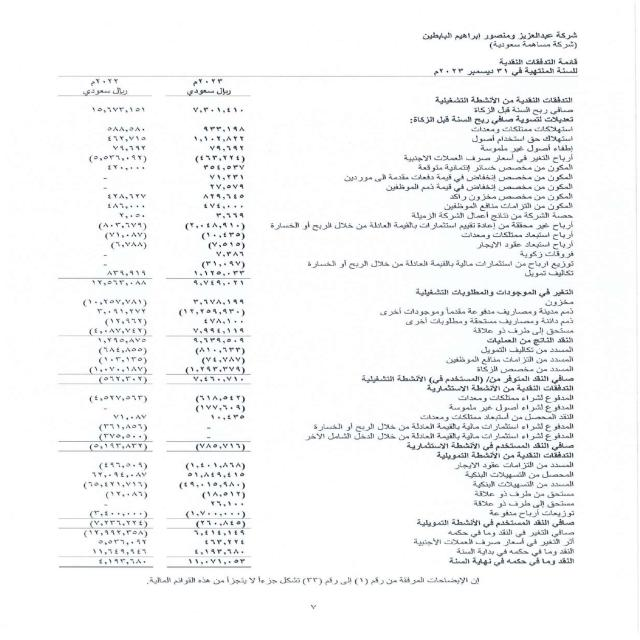financial_sheets: (494, 56, 580, 67)
table: (22, 65, 274, 577)
